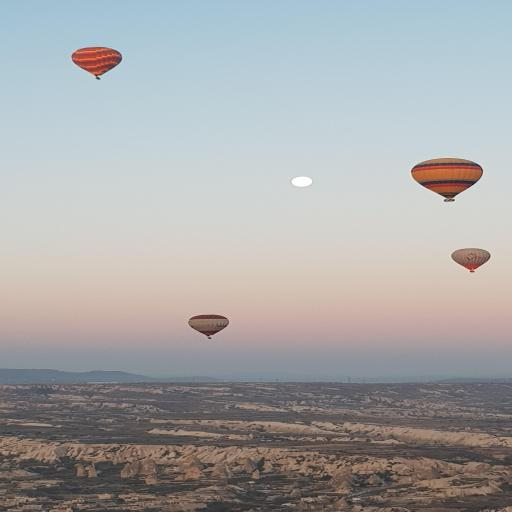hot air ballon: (408, 151, 490, 208), (66, 42, 125, 83), (443, 240, 495, 279), (189, 310, 230, 343)
